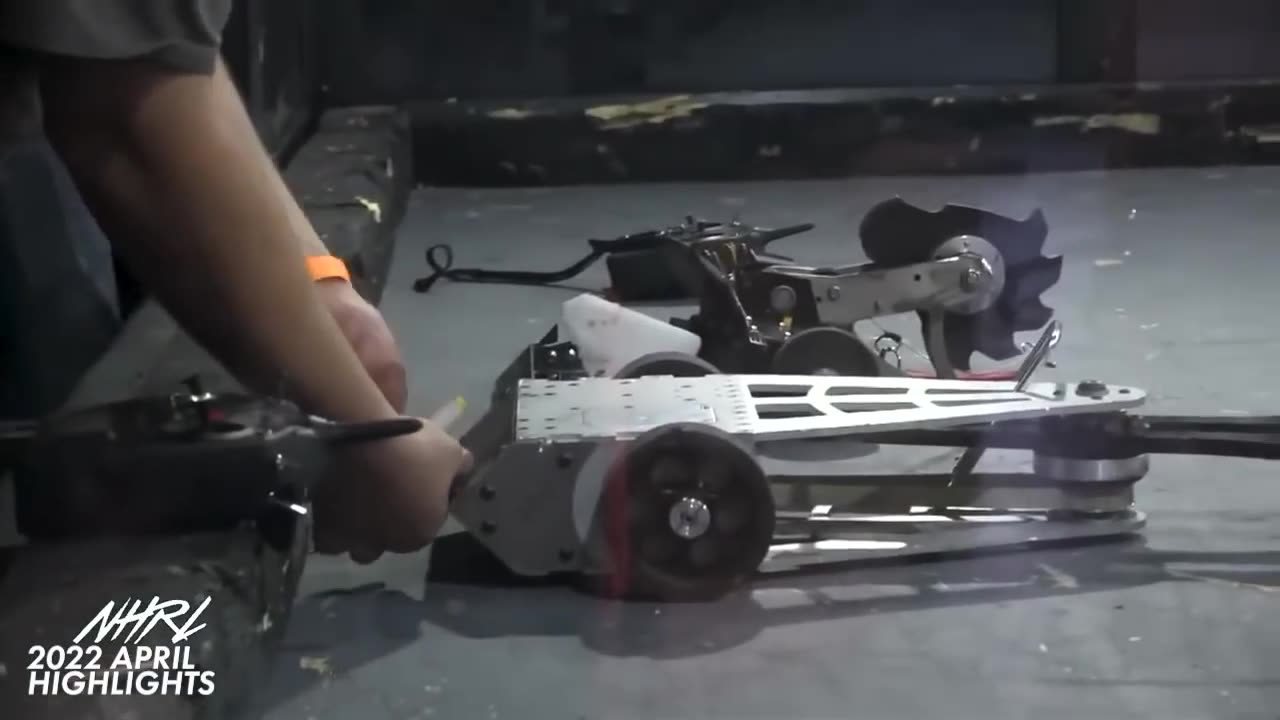combatbot: (446, 350, 1280, 604), (651, 192, 1068, 376)
